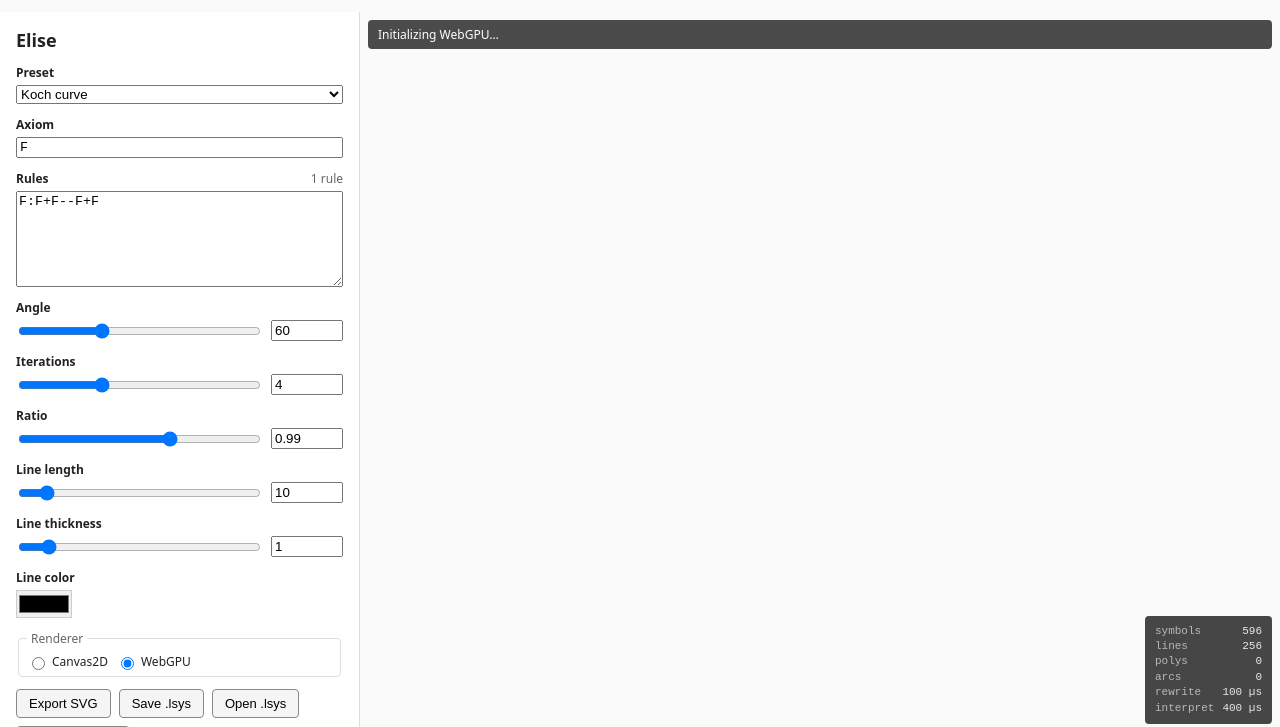
it: App › selecting a preset populates axiom + rules fields
Select "Plant" in the dropdown labelled "Preset" at (180, 94), box [16,85,343,104]
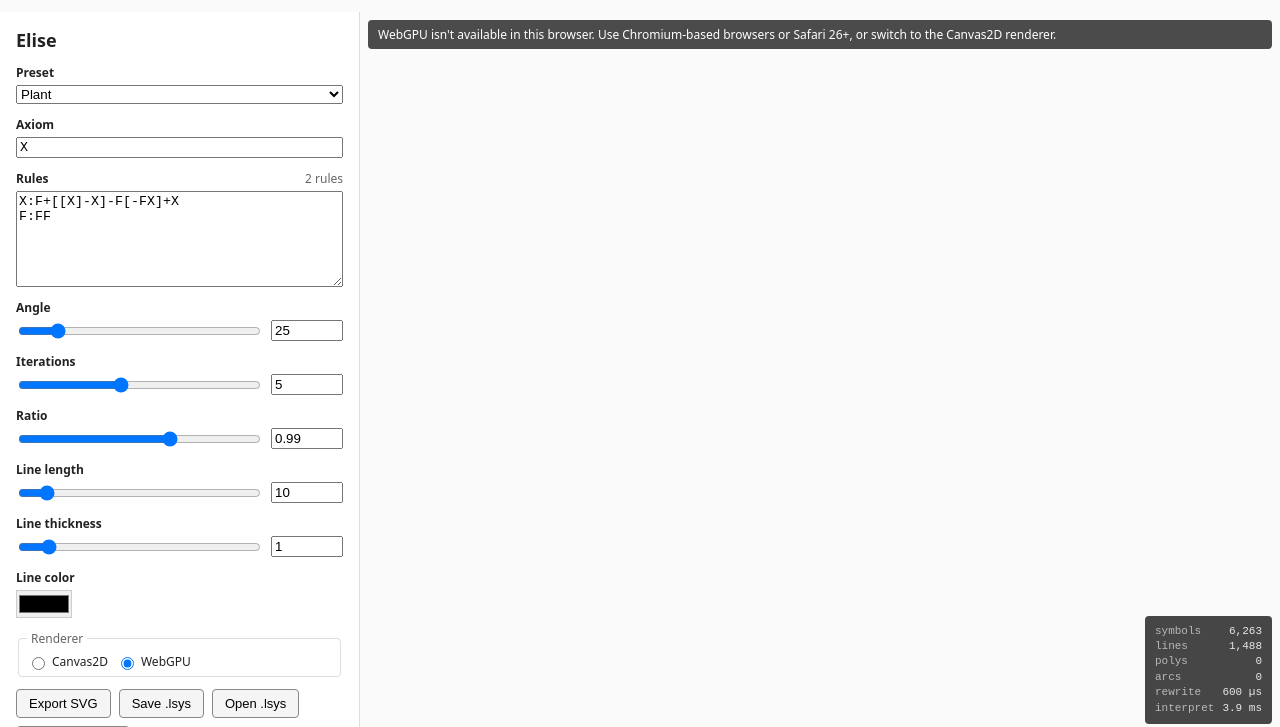
Check: the field labelled "Axiom" holds "X", box [16,137,343,158]
